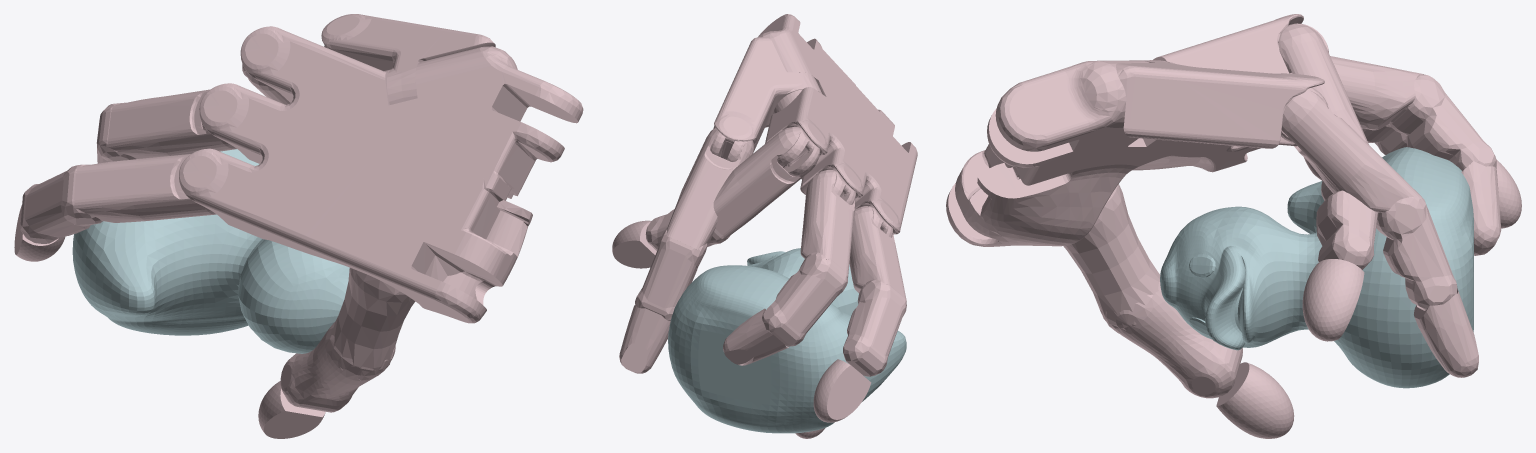
Rendered from grasp_3.glb.
3 views of the same model, side by side, from view 1: azimuth 30°, elevation 25°; view 2: azimuth 150°, elevation 25°; view 3: azimuth 270°, elevation 25° (orthographic). The views are drawn at different scales.
Visible parts, largest first — view 1: world; view 2: world; view 3: world.
Part boxes in pixels (left/top/right/bottom): world: left=14, top=14, right=583, bottom=438; world: left=612, top=14, right=917, bottom=438; world: left=946, top=14, right=1521, bottom=438.
Bounding box in the file's own units: 0.1449 × 0.1472 × 0.1759.
